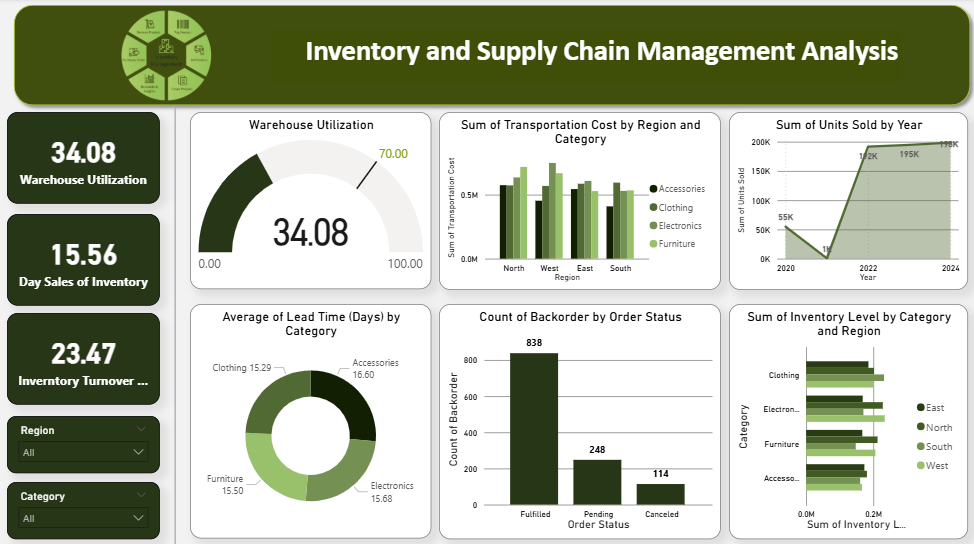

The dashboard page shown, as its layout file describes it:
{"tool":"powerbi","page":{"name":"Page 1","canvas":[1280,720],"ordinal":0},"visuals":[{"type":"shape","box":[10.1,0,1269.9,149.5],"z":0},{"type":"textbox","box":[357.8,40.3,824.8,70.6],"z":1000},{"type":"image","box":[97.4,0,243.6,149.5],"z":2000},{"type":"shape","box":[210.1,142.5,39.7,577.5],"z":3000},{"type":"card","fields":{"Values":["Inventory and Supply chain Dataset.Warehouse Utilization"]},"box":[10.3,149.9,200,120],"z":4000},{"type":"card","fields":{"Values":["Inventory and Supply chain Dataset.Day Sales of Inventory"]},"box":[10.3,282.1,200,120],"z":5000},{"type":"card","fields":{"Values":["Inventory and Supply chain Dataset.Inverntory Turnover Ratio"]},"box":[10.3,412.9,200,120.5],"z":6000},{"type":"slicer","fields":{"Values":["Inventory and Supply chain Dataset.Region"]},"box":[10.3,546.6,200,75],"z":7000},{"type":"slicer","fields":{"Values":["Inventory and Supply chain Dataset.Category"]},"box":[10.3,633.3,200,75],"z":8000},{"type":"gauge","fields":{"Y":["Inventory and Supply chain Dataset.Warehouse Utilization"]},"box":[249.8,149.9,315.9,232.2],"z":9000},{"type":"clusteredColumnChart","fields":{"Y":["Sum(Inventory and Supply chain Dataset.Transportation Cost)"],"Category":["Inventory and Supply chain Dataset.Region"],"Series":["Inventory and Supply chain Dataset.Category"]},"box":[576,149.2,369.2,233],"z":10000},{"type":"lineChart","fields":{"Y":["Sum(Inventory and Supply chain Dataset.Units Sold)"],"Category":["Inventory and Supply chain Dataset.Date.Variation.Date Hierarchy.Year"]},"box":[955.6,149.2,312.9,233],"z":11000},{"type":"donutChart","fields":{"Y":["Avg(Inventory and Supply chain Dataset.Lead Time (Days))"],"Category":["Inventory and Supply chain Dataset.Category"]},"box":[249.8,401.1,315.9,307.1],"z":12000},{"type":"columnChart","fields":{"Category":["Inventory and Supply chain Dataset.Order Status"],"Y":["CountNonNull(Inventory and Supply chain Dataset.Backorder)"]},"box":[576,400.6,369.2,307.6],"z":13000},{"type":"clusteredBarChart","fields":{"Y":["Sum(Inventory and Supply chain Dataset.Inventory Level)"],"Category":["Inventory and Supply chain Dataset.Category"],"Series":["Inventory and Supply chain Dataset.Region"]},"box":[955.6,400.6,312.9,307.6],"z":14000}]}

Visuals, with their boxes in screenshot pixels (x1, y1, x2, y2), scaled from the page's 1280x720 canvas onto the 974x544 screenshot:
shape: BBox(8, 0, 973, 113)
textbox: BBox(272, 30, 900, 84)
image: BBox(74, 0, 259, 113)
shape: BBox(160, 108, 190, 543)
card - Inventory and Supply chain Dataset.Warehouse Utilization: BBox(8, 113, 160, 204)
card - Inventory and Supply chain Dataset.Day Sales of Inventory: BBox(8, 213, 160, 304)
card - Inventory and Supply chain Dataset.Inverntory Turnover Ratio: BBox(8, 312, 160, 403)
slicer - Inventory and Supply chain Dataset.Region: BBox(8, 413, 160, 470)
slicer - Inventory and Supply chain Dataset.Category: BBox(8, 478, 160, 535)
gauge - Inventory and Supply chain Dataset.Warehouse Utilization: BBox(190, 113, 430, 289)
clusteredColumnChart - Sum(Inventory and Supply chain Dataset.Transportation Cost) x Inventory and Supply chain Dataset.Region: BBox(438, 113, 719, 289)
lineChart - Sum(Inventory and Supply chain Dataset.Units Sold) x Inventory and Supply chain Dataset.Date.Variation.Date Hierarchy.Year: BBox(727, 113, 965, 289)
donutChart - Avg(Inventory and Supply chain Dataset.Lead Time (Days)) x Inventory and Supply chain Dataset.Category: BBox(190, 303, 430, 535)
columnChart - Inventory and Supply chain Dataset.Order Status x CountNonNull(Inventory and Supply chain Dataset.Backorder): BBox(438, 303, 719, 535)
clusteredBarChart - Sum(Inventory and Supply chain Dataset.Inventory Level) x Inventory and Supply chain Dataset.Category: BBox(727, 303, 965, 535)
